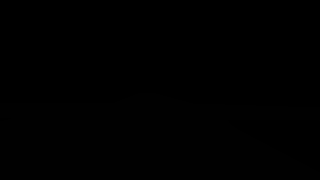go_ahead: (235, 14, 277, 51)
